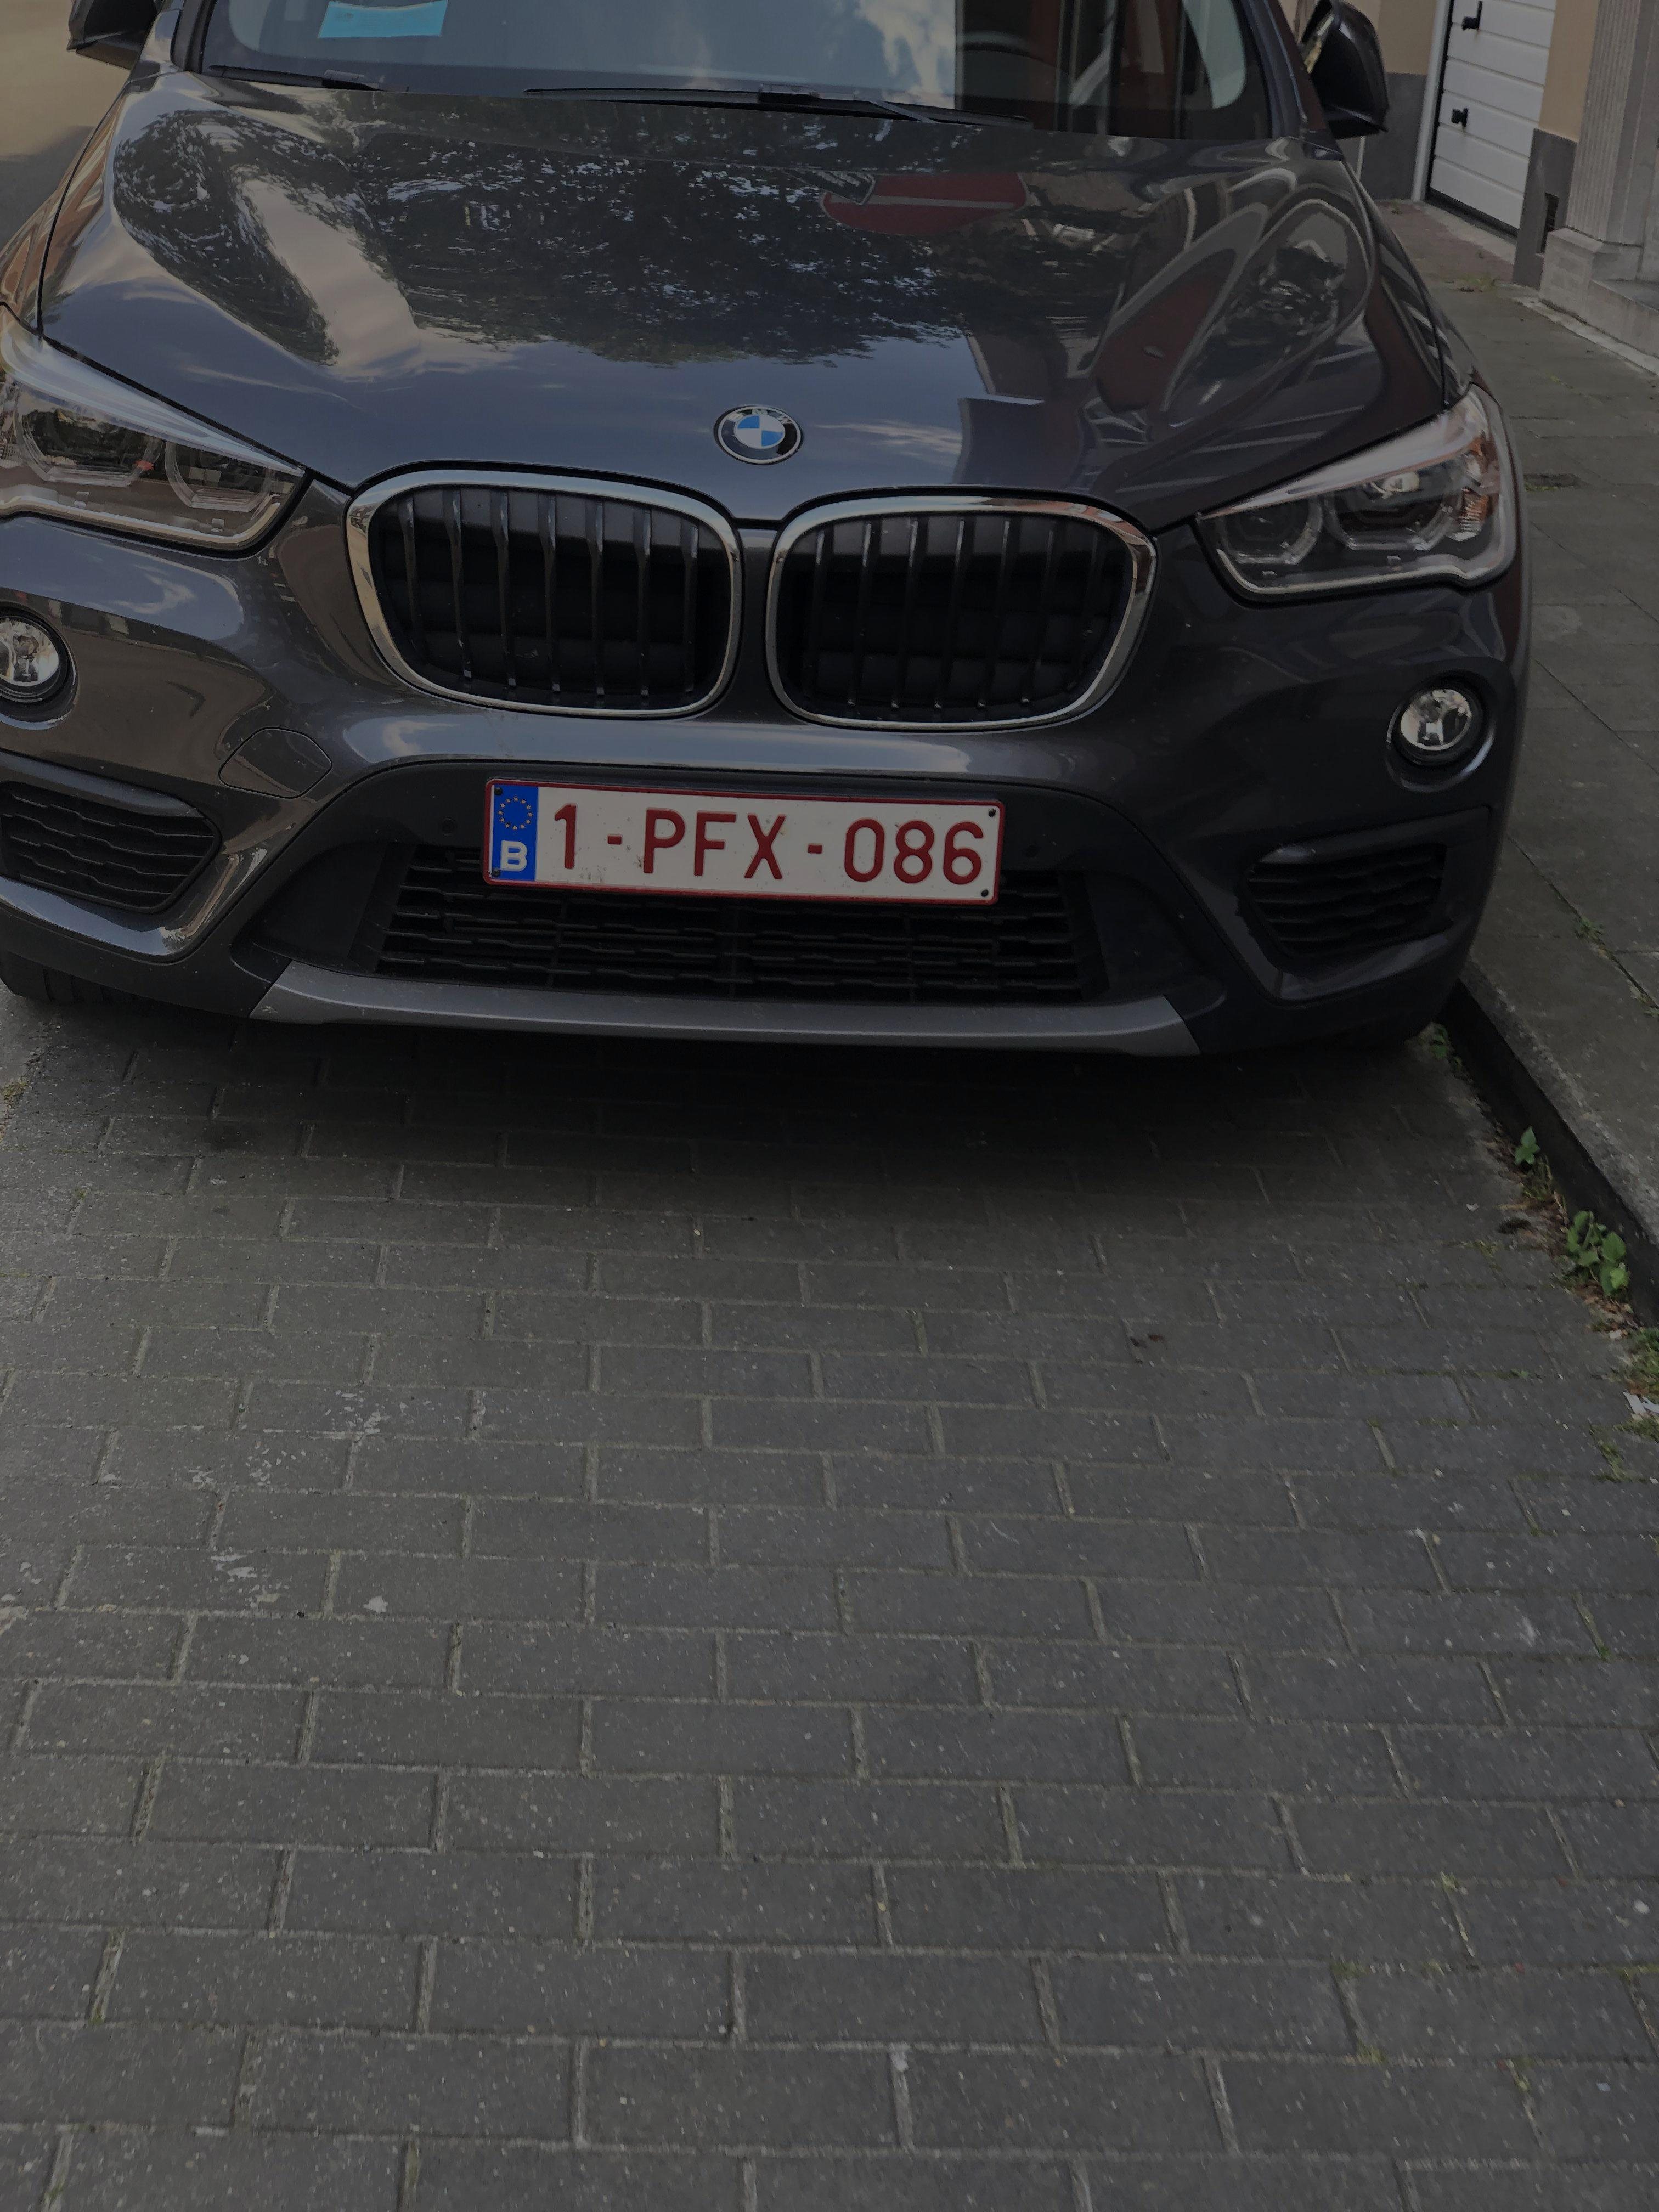plate: (462, 748, 1031, 935)
